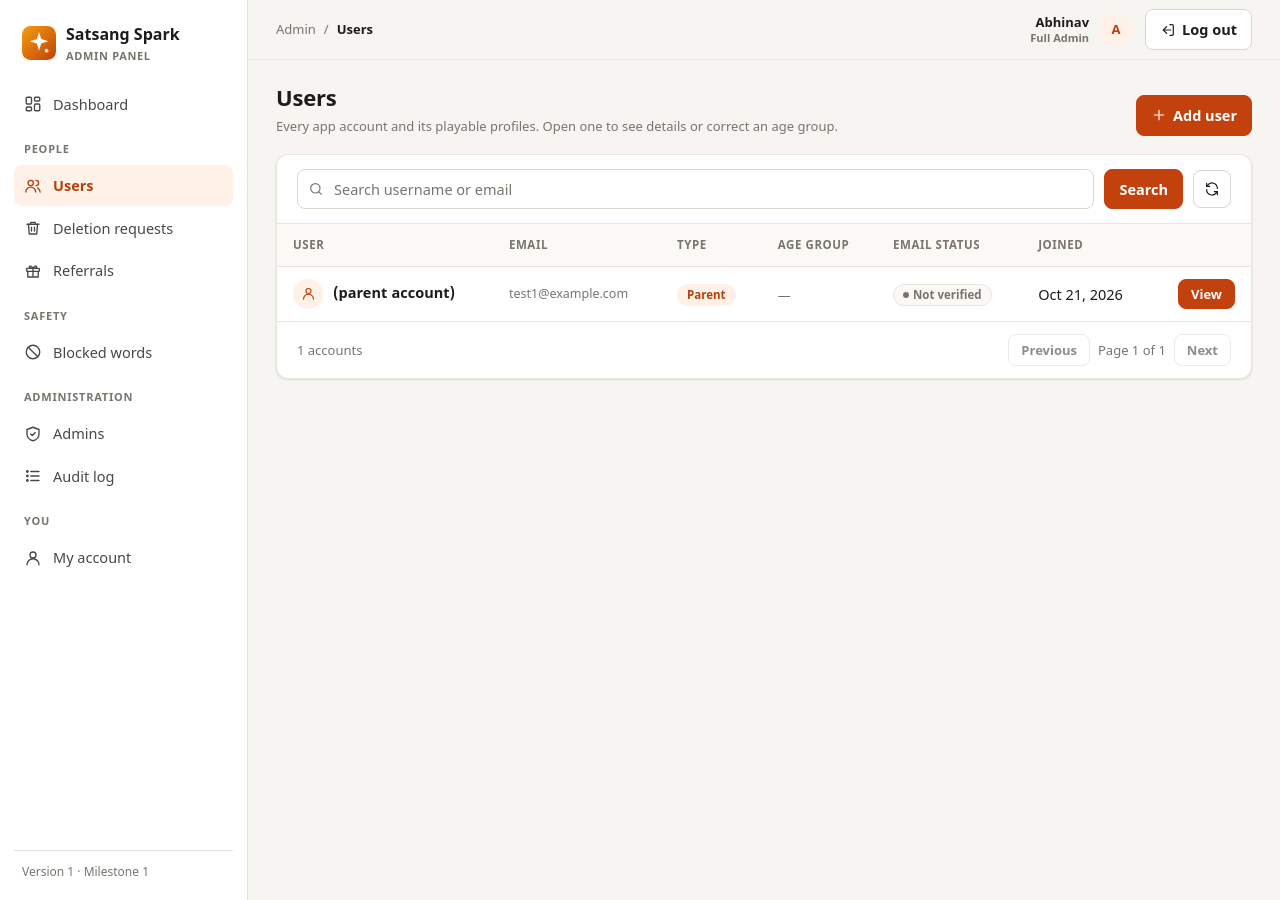
Test: Users page: each row has a View button that opens that account
The width and height of the screenshot is (1280, 900).
Click the link with aria-label "View test1@example.com" at (1206, 294), box left=1178, top=279, right=1235, bottom=309
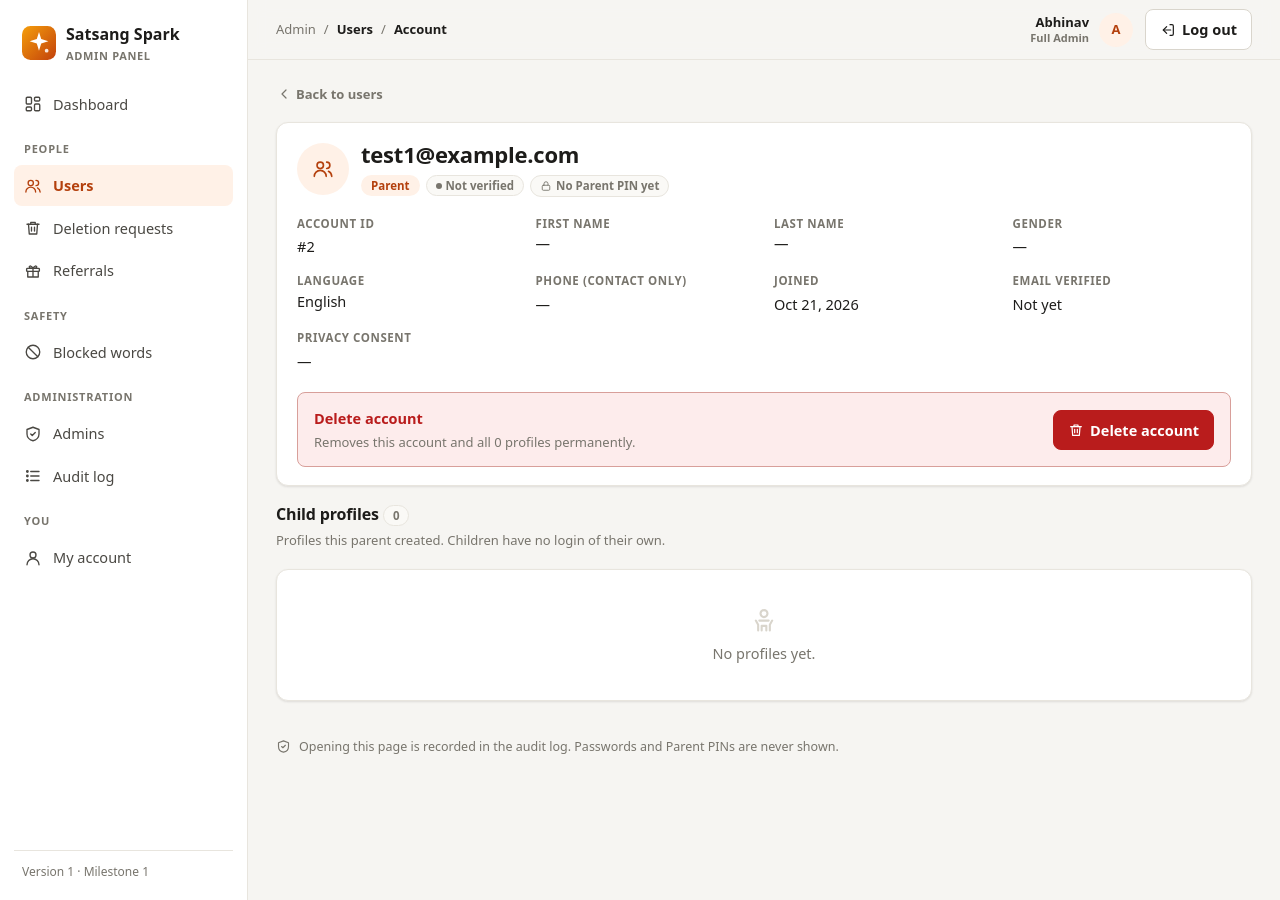
Expected: the heading "test1@example.com" is shown, left=361, top=139, right=579, bottom=169
